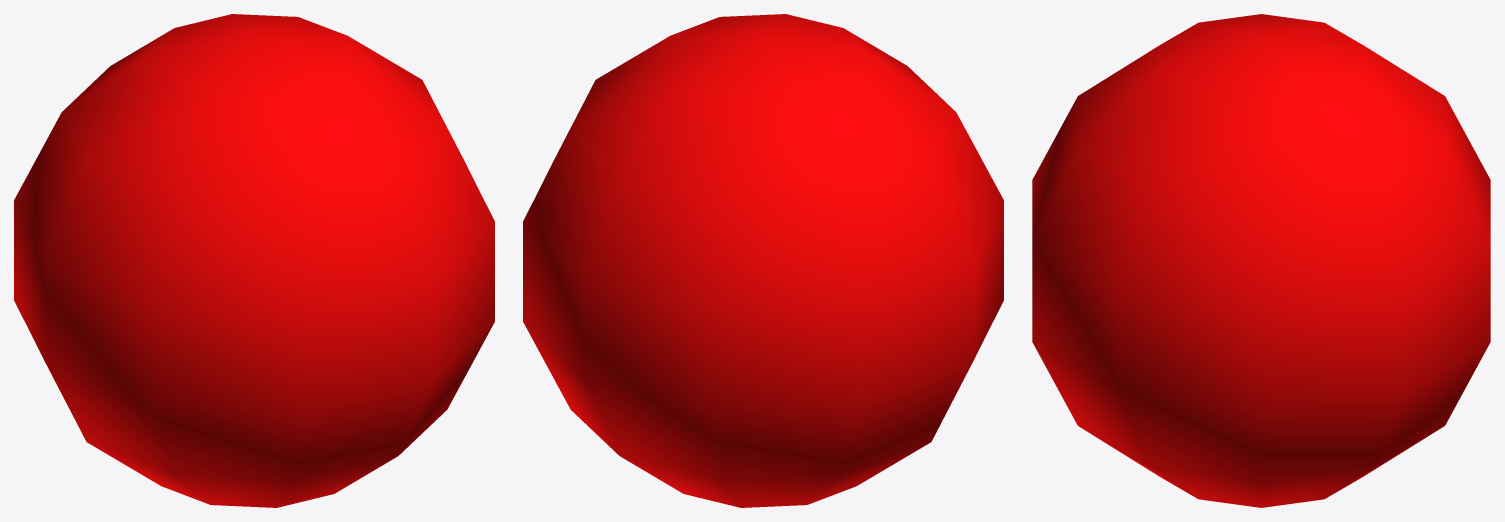
The model's file is boule_rouge.dae.
3 views of the same model, side by side, from view 1: azimuth 30°, elevation 25°; view 2: azimuth 150°, elevation 25°; view 3: azimuth 270°, elevation 25° (orthographic).
Parts seen in each view (by area): view 1: boule_rouge; view 2: boule_rouge; view 3: boule_rouge.
Boxes of the visible parts, <box> form: boule_rouge: <box>14,14,494,507</box>; boule_rouge: <box>523,14,1003,507</box>; boule_rouge: <box>1032,14,1490,507</box>.
Size of the model in its own units: 0.9749 by 0.9272 by 1.
